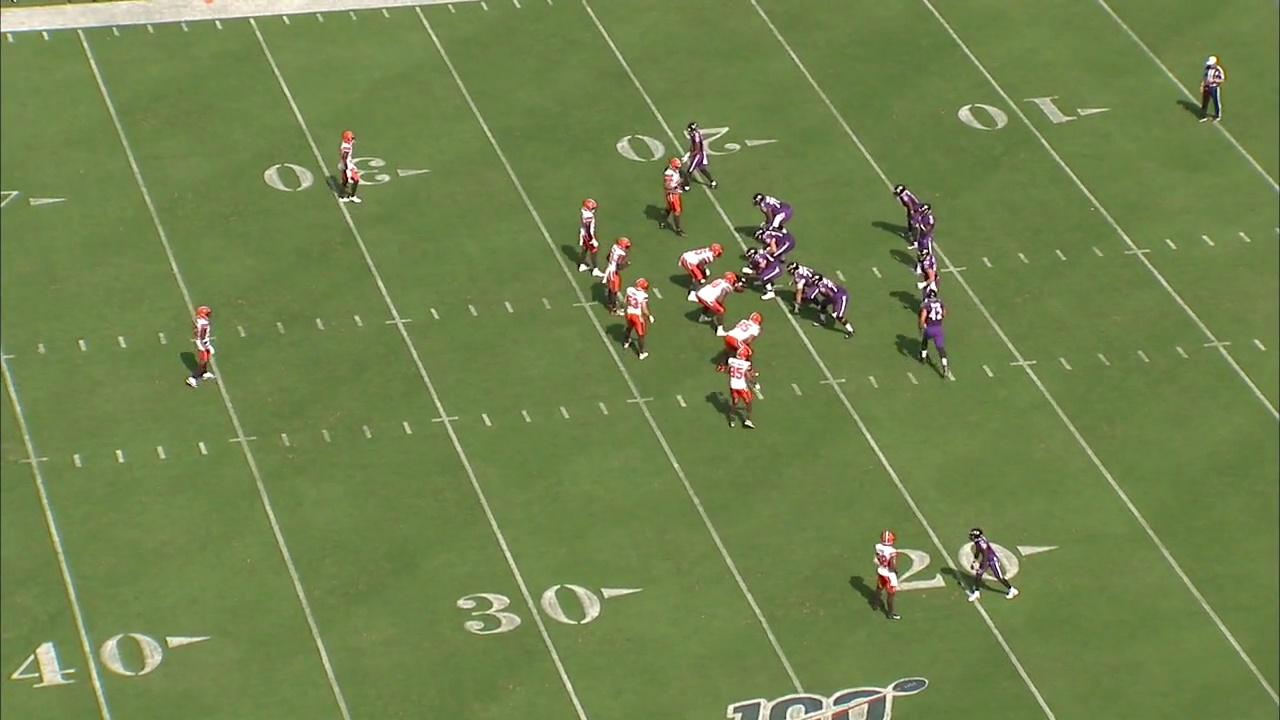player: (967, 526, 1019, 604), (713, 310, 767, 379), (808, 270, 857, 342), (693, 270, 742, 338), (870, 530, 905, 625), (677, 239, 726, 304), (916, 288, 951, 379), (599, 235, 636, 318), (186, 302, 222, 386), (732, 246, 785, 302), (622, 277, 656, 362), (679, 120, 719, 192), (726, 347, 761, 429), (575, 197, 608, 279), (784, 261, 830, 317), (911, 202, 943, 282), (657, 153, 686, 239), (750, 189, 794, 235), (894, 184, 923, 251), (750, 224, 797, 265), (337, 128, 361, 204), (913, 246, 946, 301)
ref: (1196, 51, 1226, 126)
